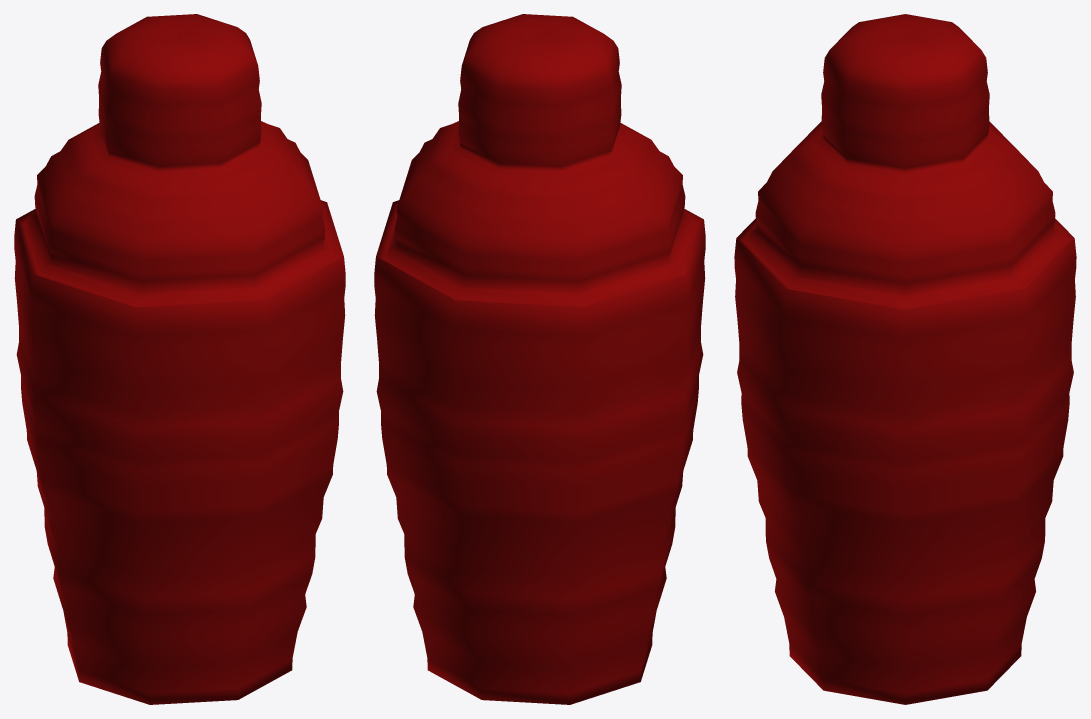
The model's file is coctelera.fbx.
The picture shows the model from 3 angles, left to right: view 1: azimuth 30°, elevation 25°; view 2: azimuth 150°, elevation 25°; view 3: azimuth 270°, elevation 25°; orthographic projection.
Parts seen in each view (by area): view 1: nurbsToPoly1; view 2: nurbsToPoly1; view 3: nurbsToPoly1.
Boxes of the visible parts, x1=… form: nurbsToPoly1: x1=14, y1=14, x2=345, y2=704; nurbsToPoly1: x1=374, y1=14, x2=705, y2=704; nurbsToPoly1: x1=734, y1=14, x2=1076, y2=704.
Size of the model in its own units: 3.89 by 7.88 by 3.89.
